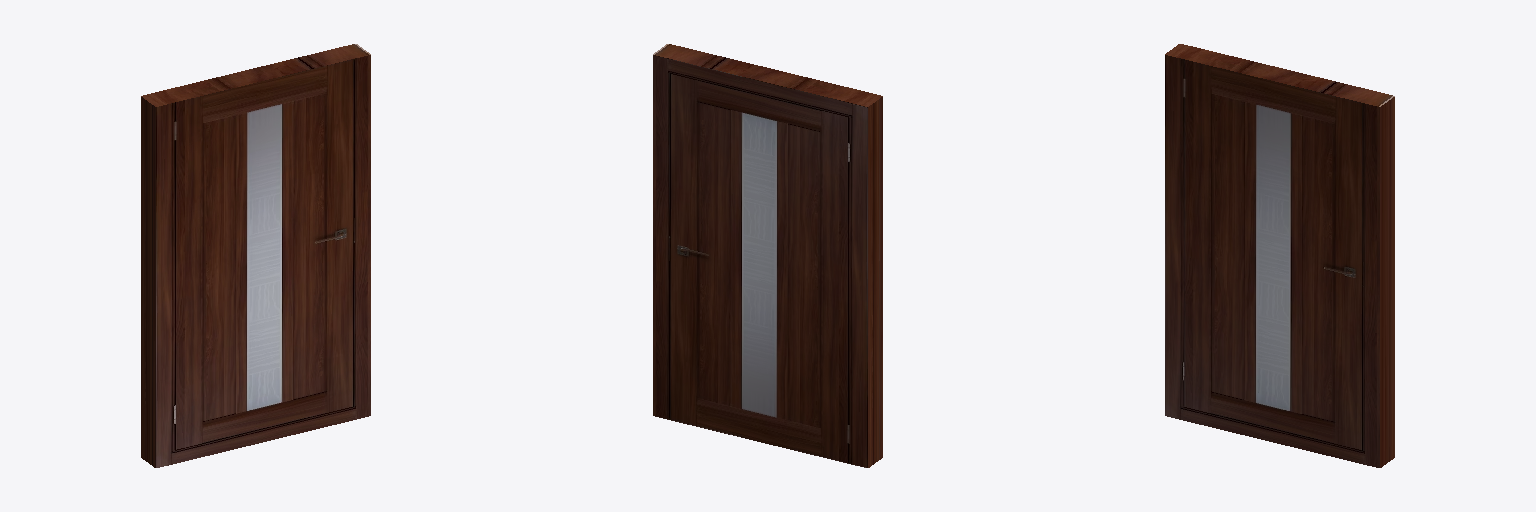
The picture shows the model from 3 angles: view 1: azimuth 30°, elevation 25°; view 2: azimuth 150°, elevation 25°; view 3: azimuth 330°, elevation 25°; orthographic projection.
Parts seen in each view (by area): view 1: Door; view 2: Door; view 3: Door.
Part boxes in pixels (bbox=[...]): Door: bbox=[141, 44, 370, 467]; Door: bbox=[653, 44, 882, 467]; Door: bbox=[1165, 44, 1394, 467].
Bounding box in the file's own units: 2 × 3.2 × 0.2457.
Materials: 1 (1 with a texture image).